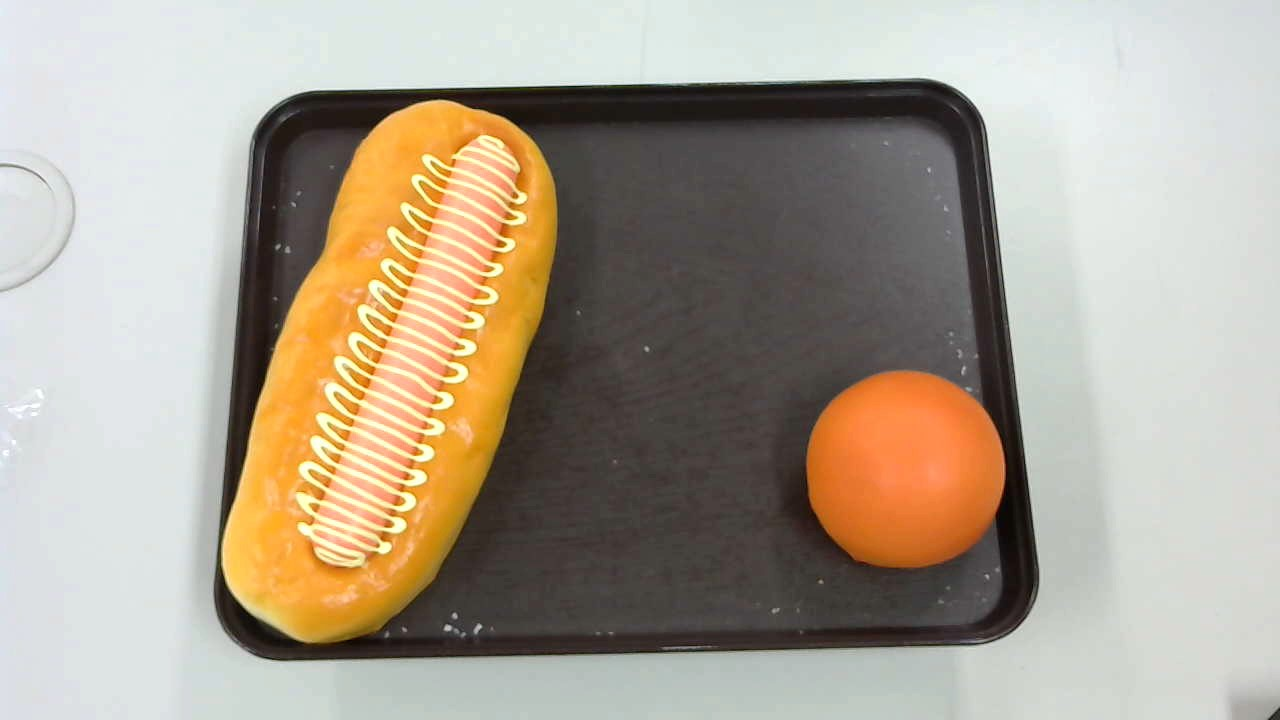bun: (806, 369, 1005, 570)
hot dog: (219, 99, 558, 643)
